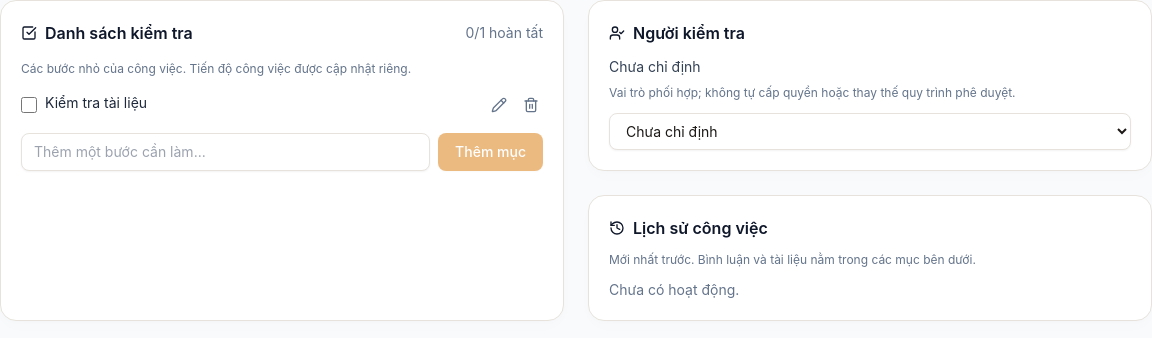
it: Task planning UI › shows rejected mutations and retains the unchecked value
Click the checkbox named "Kiểm tra tài liệu" at (29, 105), box [21,97,37,113]
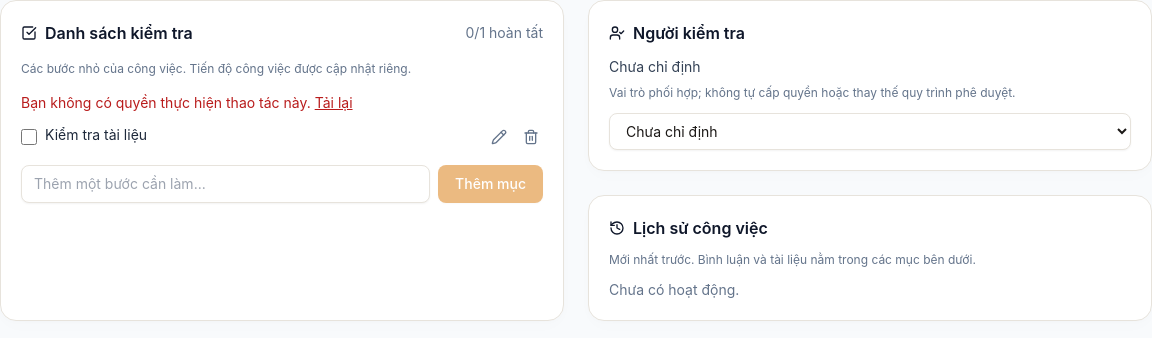
Expected: the checkbox named "Kiểm tra tài liệu" is not checked, [21,129,37,145]
Expected: the message shows "không có quyền", [21,94,311,111]
